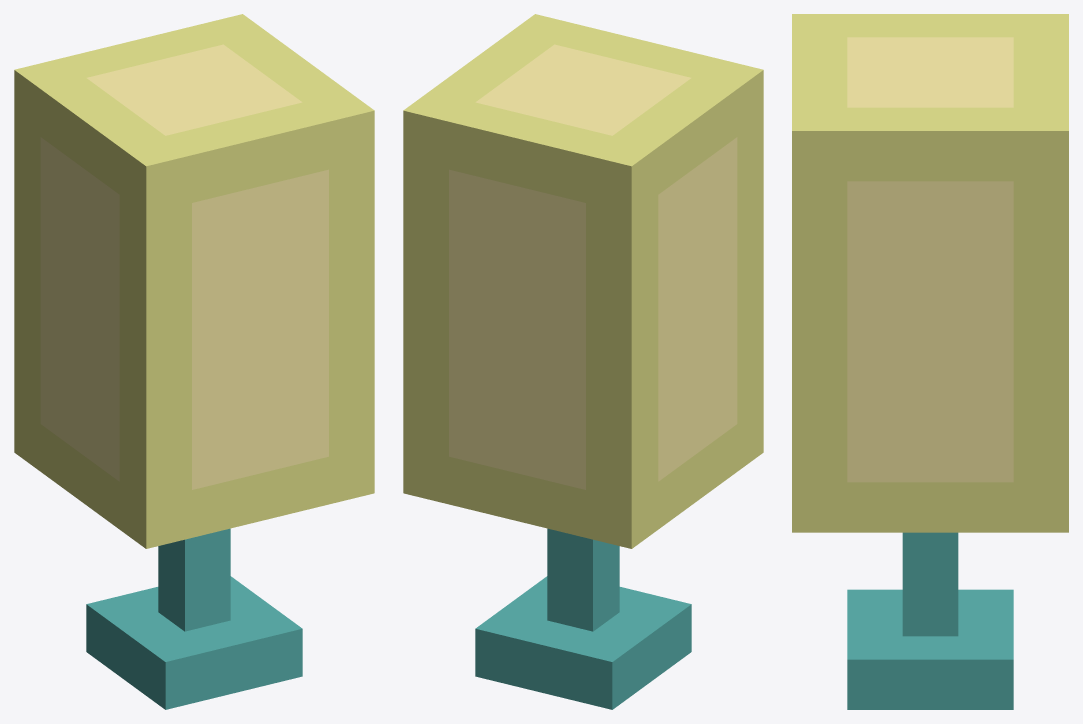
File: House Interior Rooms - Free Sample-7.obj
3 views of the same model, side by side, from view 1: azimuth 30°, elevation 25°; view 2: azimuth 150°, elevation 25°; view 3: azimuth 270°, elevation 25° (orthographic). The views are drawn at different scales.
Size of the model in its own units: 0.1 by 0.24 by 0.1.
Materials: 1 (1 with a texture image).
